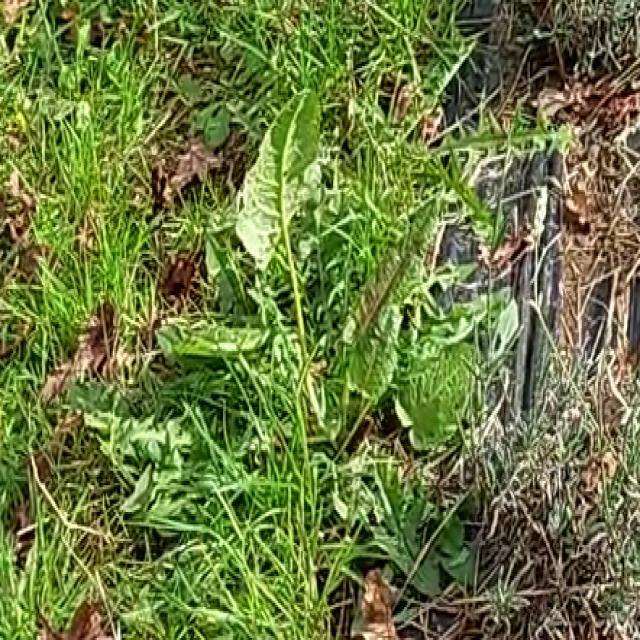organic waste: (191, 118, 523, 489)
